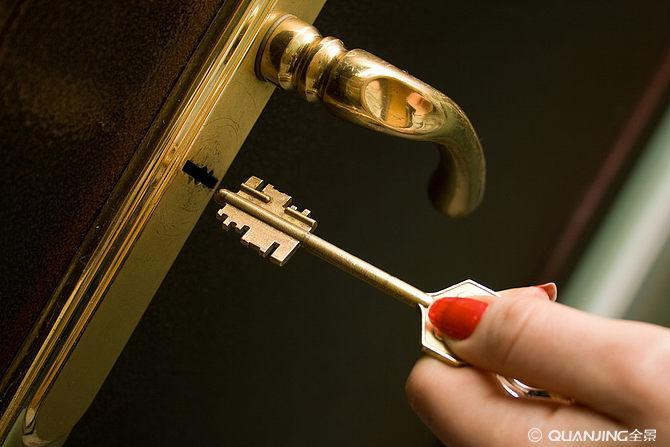key: (192, 164, 536, 398)
